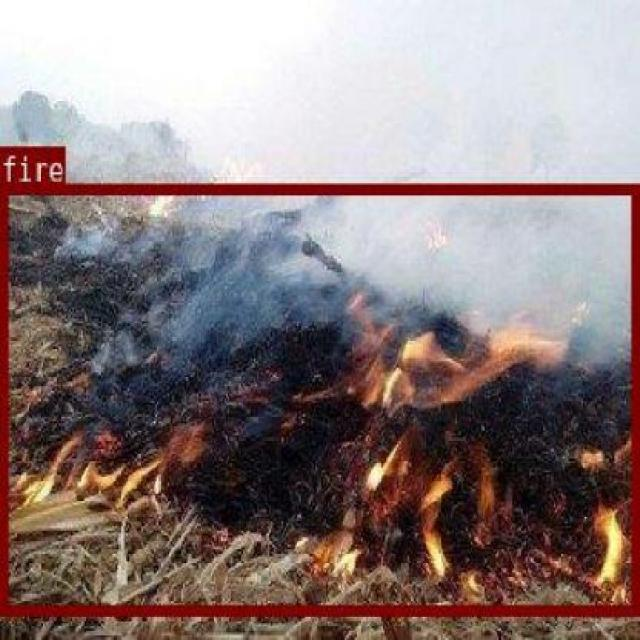Fire: (318, 397, 637, 431)
